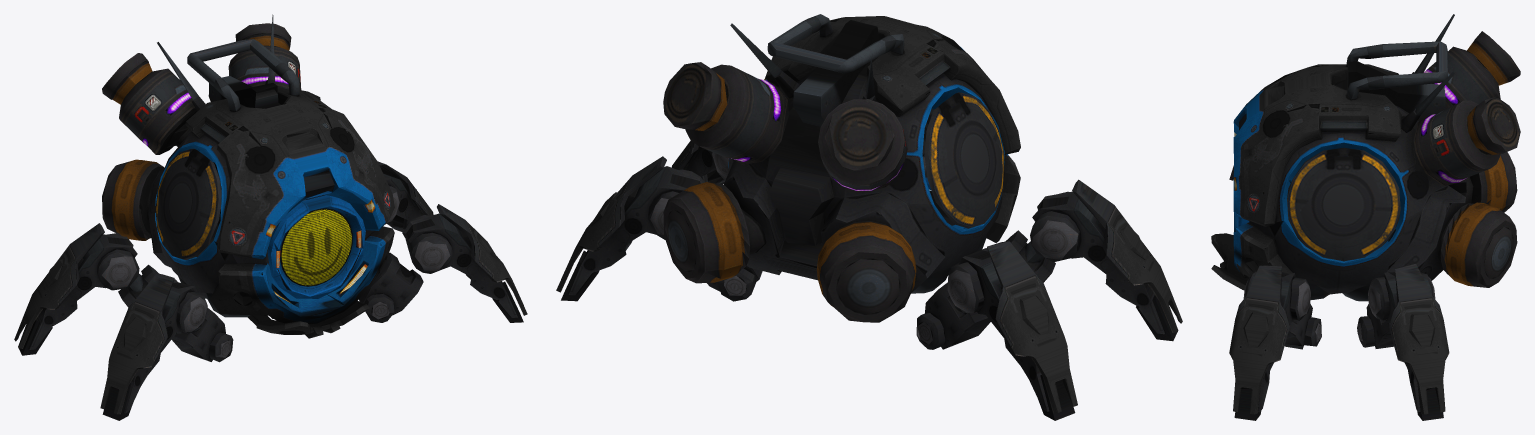
File: SmartDrone.glb
3 views of the same model, side by side, from view 1: azimuth 30°, elevation 25°; view 2: azimuth 150°, elevation 25°; view 3: azimuth 270°, elevation 25° (orthographic). The views are drawn at different scales.
Parts seen in each view (by area): view 1: SmartDrone; view 2: SmartDrone; view 3: SmartDrone.
Part boxes in pixels (x1=…): SmartDrone: x1=14, y1=14, x2=527, y2=420; SmartDrone: x1=556, y1=14, x2=1182, y2=420; SmartDrone: x1=1211, y1=14, x2=1520, y2=420.
Bounding box in the file's own units: 1.25 × 0.7533 × 0.7704.
Materials: 2 (2 with a texture image).
